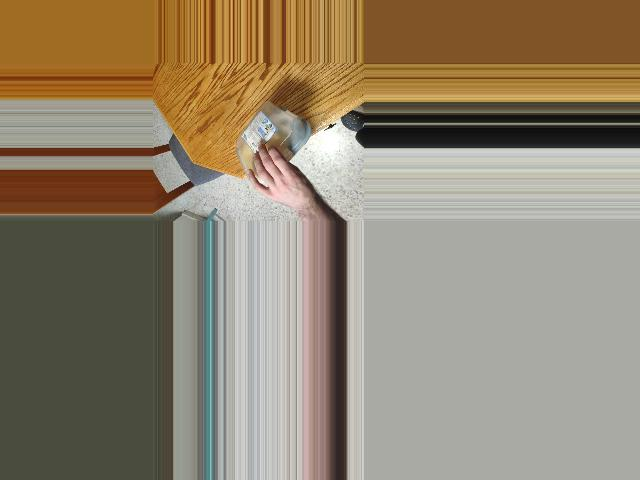cheese: (232, 100, 307, 194)
